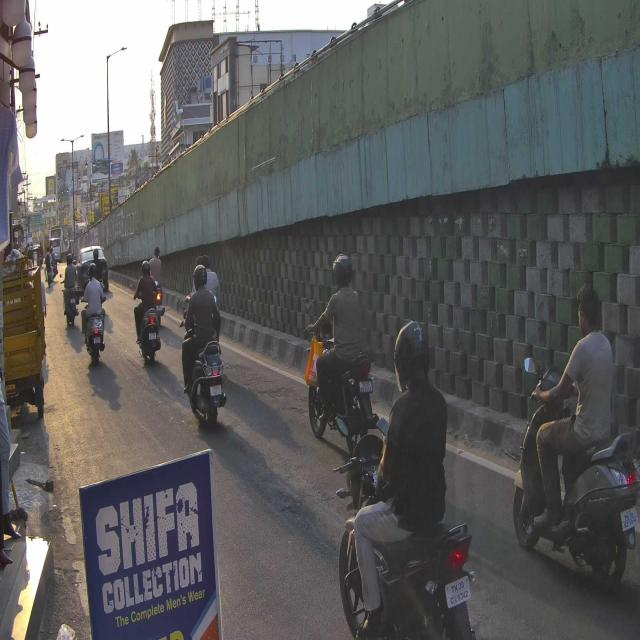single_rider: (512, 286, 640, 595), (375, 314, 482, 640), (303, 252, 372, 459), (180, 263, 228, 426)
